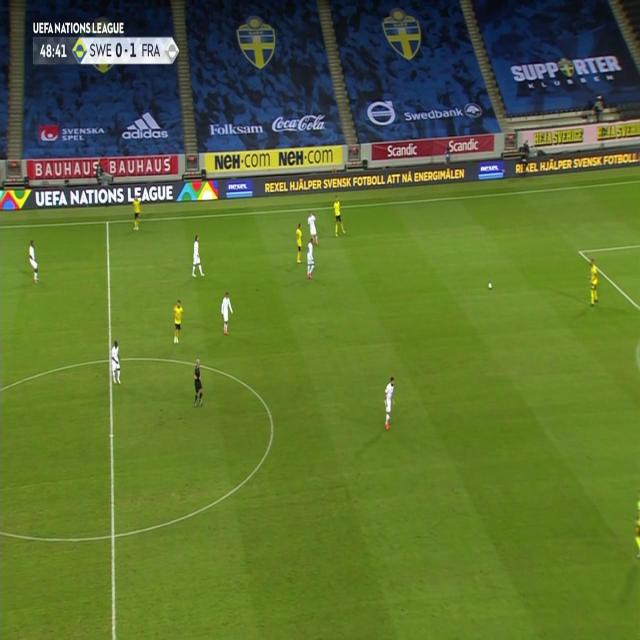ball: (488, 280, 492, 289)
player: (381, 375, 397, 432), (190, 233, 206, 278), (109, 338, 123, 386), (171, 297, 185, 345), (587, 257, 600, 307), (26, 238, 40, 283), (192, 356, 204, 408), (220, 291, 234, 334), (332, 196, 346, 237), (293, 221, 305, 264), (306, 210, 320, 245), (306, 239, 316, 280), (131, 193, 141, 232)
